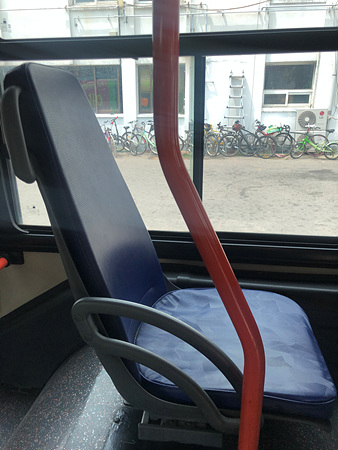seat: (10, 59, 332, 421)
